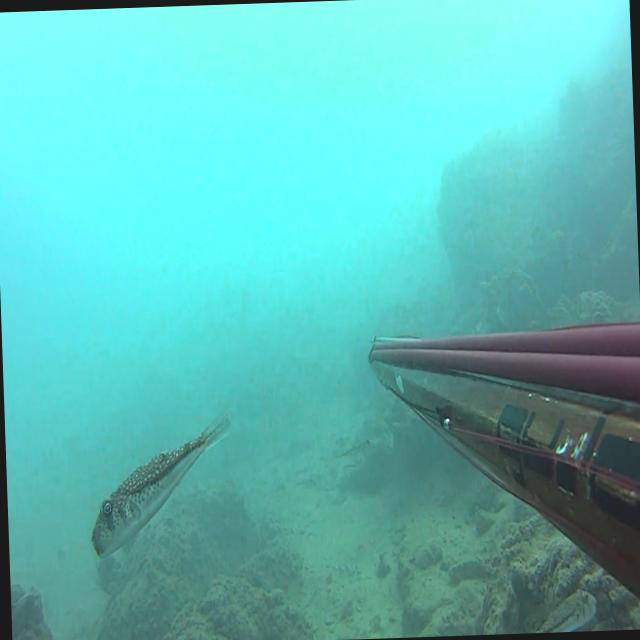Balon Baligi: (85, 408, 236, 560), (532, 586, 596, 632), (318, 436, 374, 472)
